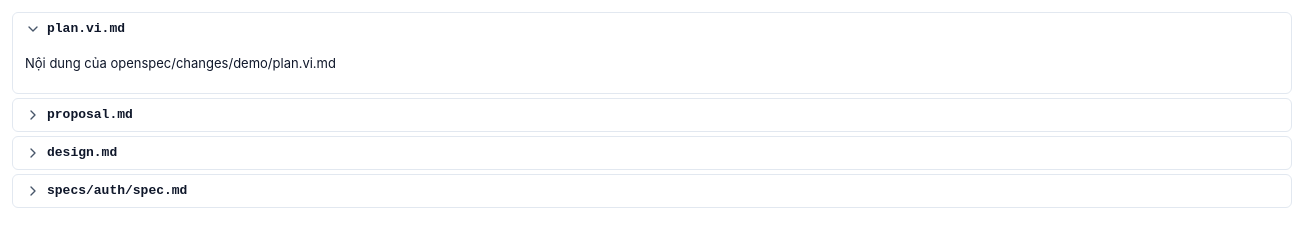
<DocAccordion /> › a document closes again from its button and names the panel it controls
Click the button "plan.vi.md" at (86, 28), box 13,13 -> 1291,45
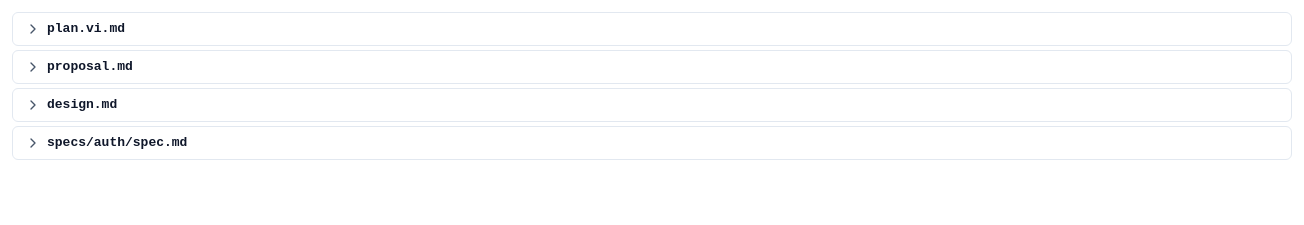
Check: the button "plan.vi.md" is collapsed, box 13,13 -> 1291,45
Check: the text "Nội dung của openspec/changes/demo/plan.vi.md" is gone
